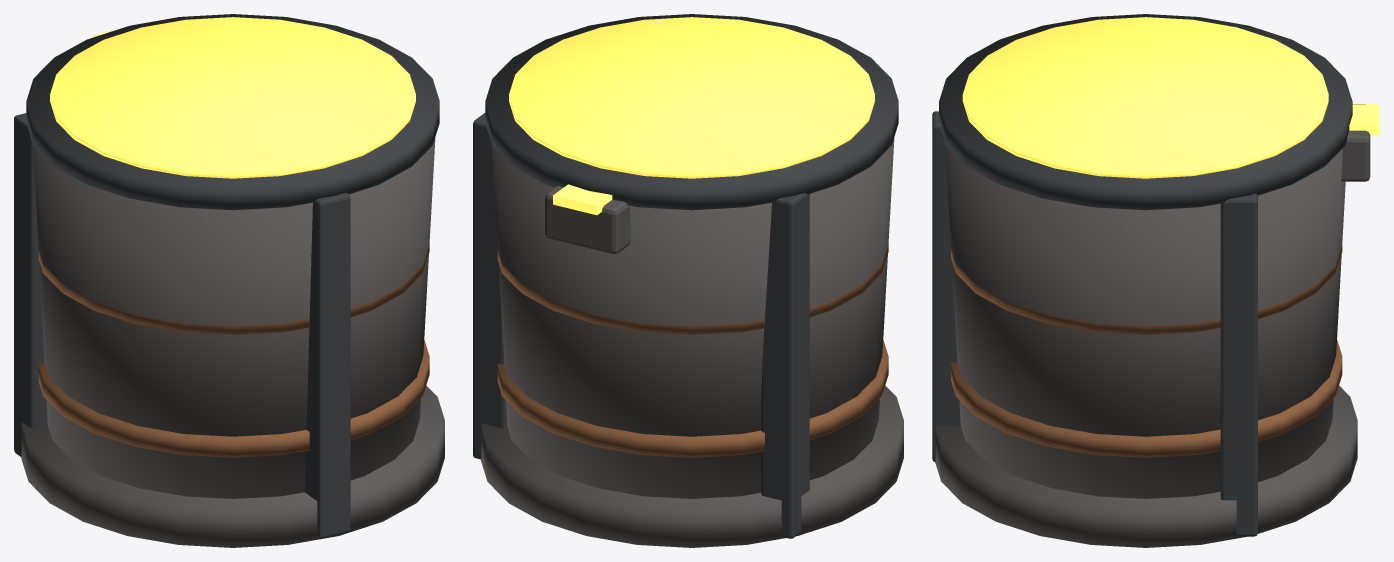
File: crucible.glb
3 renders of one model, left to right at view 1: azimuth 30°, elevation 25°; view 2: azimuth 150°, elevation 25°; view 3: azimuth 270°, elevation 25°, orthographic.
Visible parts, largest first — view 1: crucible; view 2: crucible; view 3: crucible.
Boxes of the visible parts, x1,y1,x2,y2 form: crucible: [14, 14, 444, 547]; crucible: [473, 14, 903, 547]; crucible: [932, 14, 1379, 547].
Bounding box in the file's own units: 2.5 × 2.37 × 2.64.
